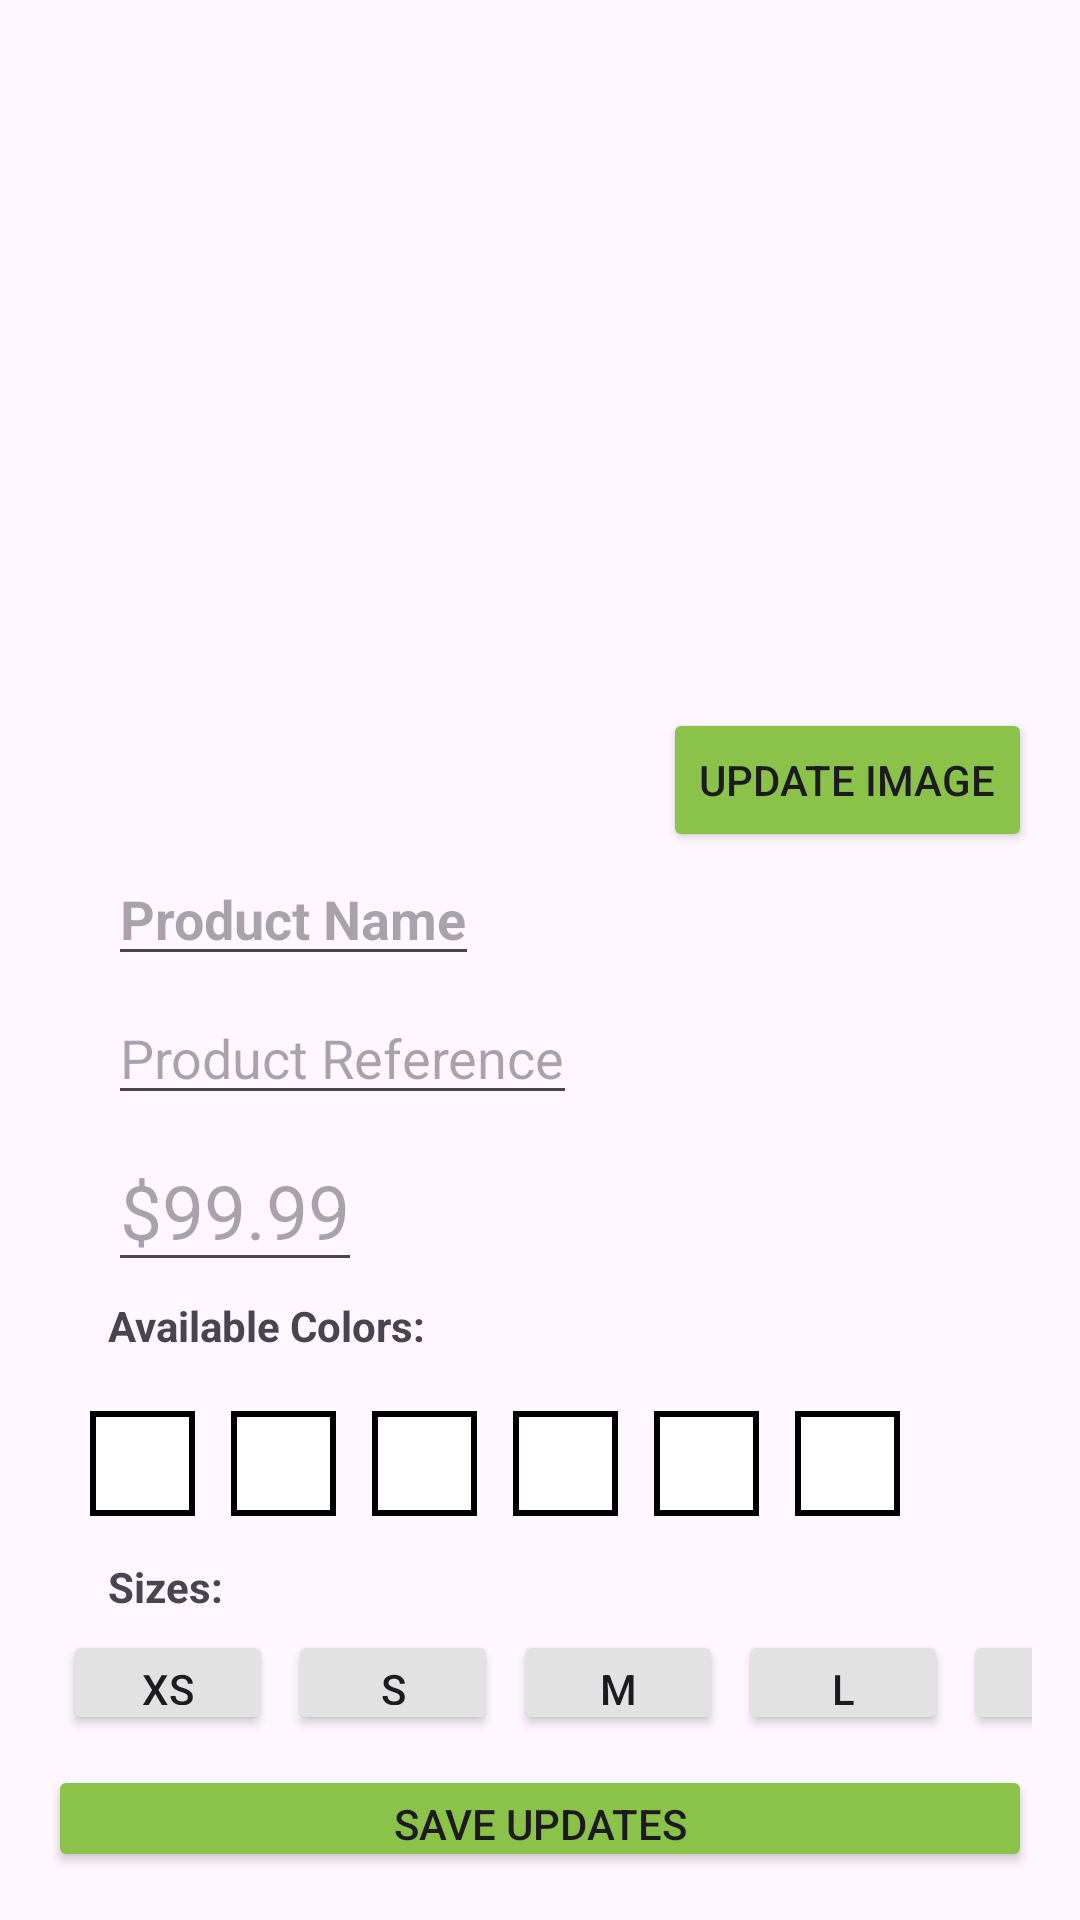

Named icons in this screenshot (1080px x 1920px) and their bounding boxes, box=[x1, y1, x2, y2]:
square: box=[90, 1411, 195, 1516], box=[231, 1411, 336, 1516], box=[372, 1411, 477, 1516], box=[513, 1411, 618, 1516], box=[654, 1411, 759, 1516], box=[795, 1411, 900, 1516]
